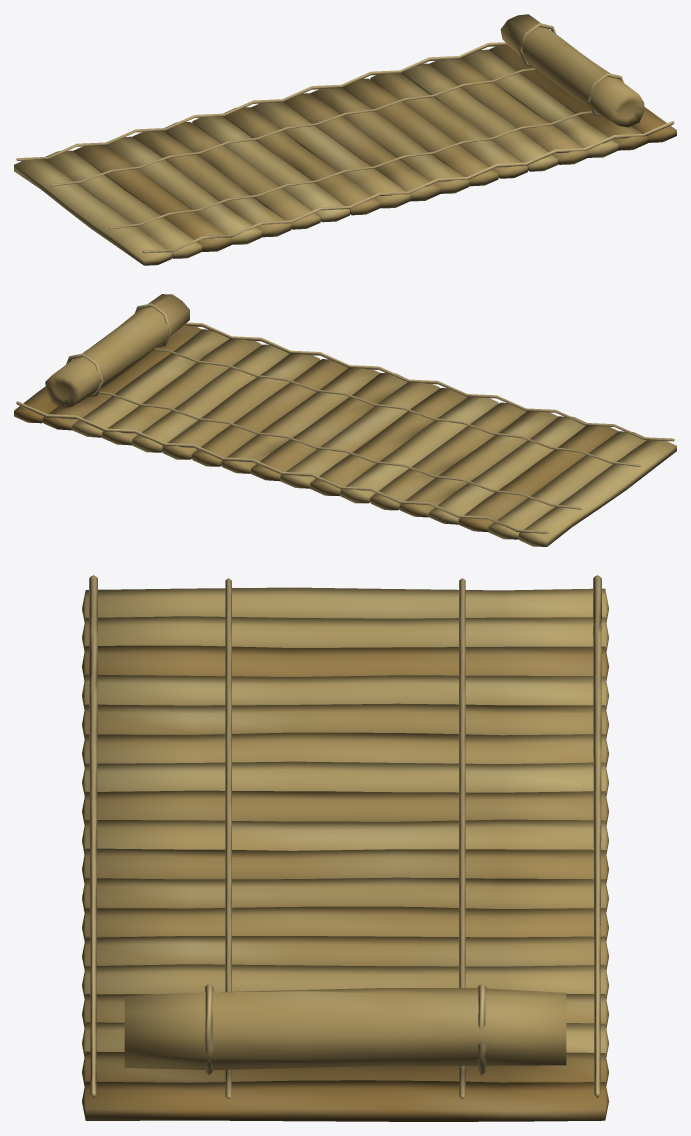
The model's file is sleeping_mat.glb.
The picture shows the model from 3 angles, top to bottom: view 1: azimuth 30°, elevation 25°; view 2: azimuth 150°, elevation 25°; view 3: azimuth 270°, elevation 25°; orthographic projection. The views are drawn at different scales.
Parts seen in each view (by area): view 1: Part_05, Part_00, Part_02, Part_01, Part_03, Part_04, Part_06; view 2: Part_05, Part_00, Part_02, Part_01, Part_04, Part_03, Part_06; view 3: Part_05, Part_01, Part_03, Part_02, Part_00, Part_04, Part_06.
Boxes of the visible parts, <box> form: Part_05: <box>461,14,676,157</box>; Part_00: <box>14,145,232,265</box>; Part_02: <box>192,102,410,222</box>; Part_01: <box>105,122,320,244</box>; Part_03: <box>283,78,498,201</box>; Part_04: <box>370,58,588,178</box>; Part_06: <box>16,23,674,253</box>; Part_05: <box>14,294,229,437</box>; Part_00: <box>458,425,676,546</box>; Part_02: <box>280,382,498,503</box>; Part_01: <box>370,402,586,524</box>; Part_04: <box>102,338,320,459</box>; Part_03: <box>192,359,408,481</box>; Part_06: <box>16,303,674,533</box>; Part_05: <box>82,988,608,1121</box>; Part_01: <box>82,674,608,767</box>; Part_03: <box>82,848,608,941</box>; Part_02: <box>82,761,608,854</box>; Part_00: <box>82,587,608,680</box>; Part_04: <box>82,936,608,1028</box>; Part_06: <box>89,575,601,1098</box>.
Size of the model in its own units: 1.9 by 0.182 by 0.812.
